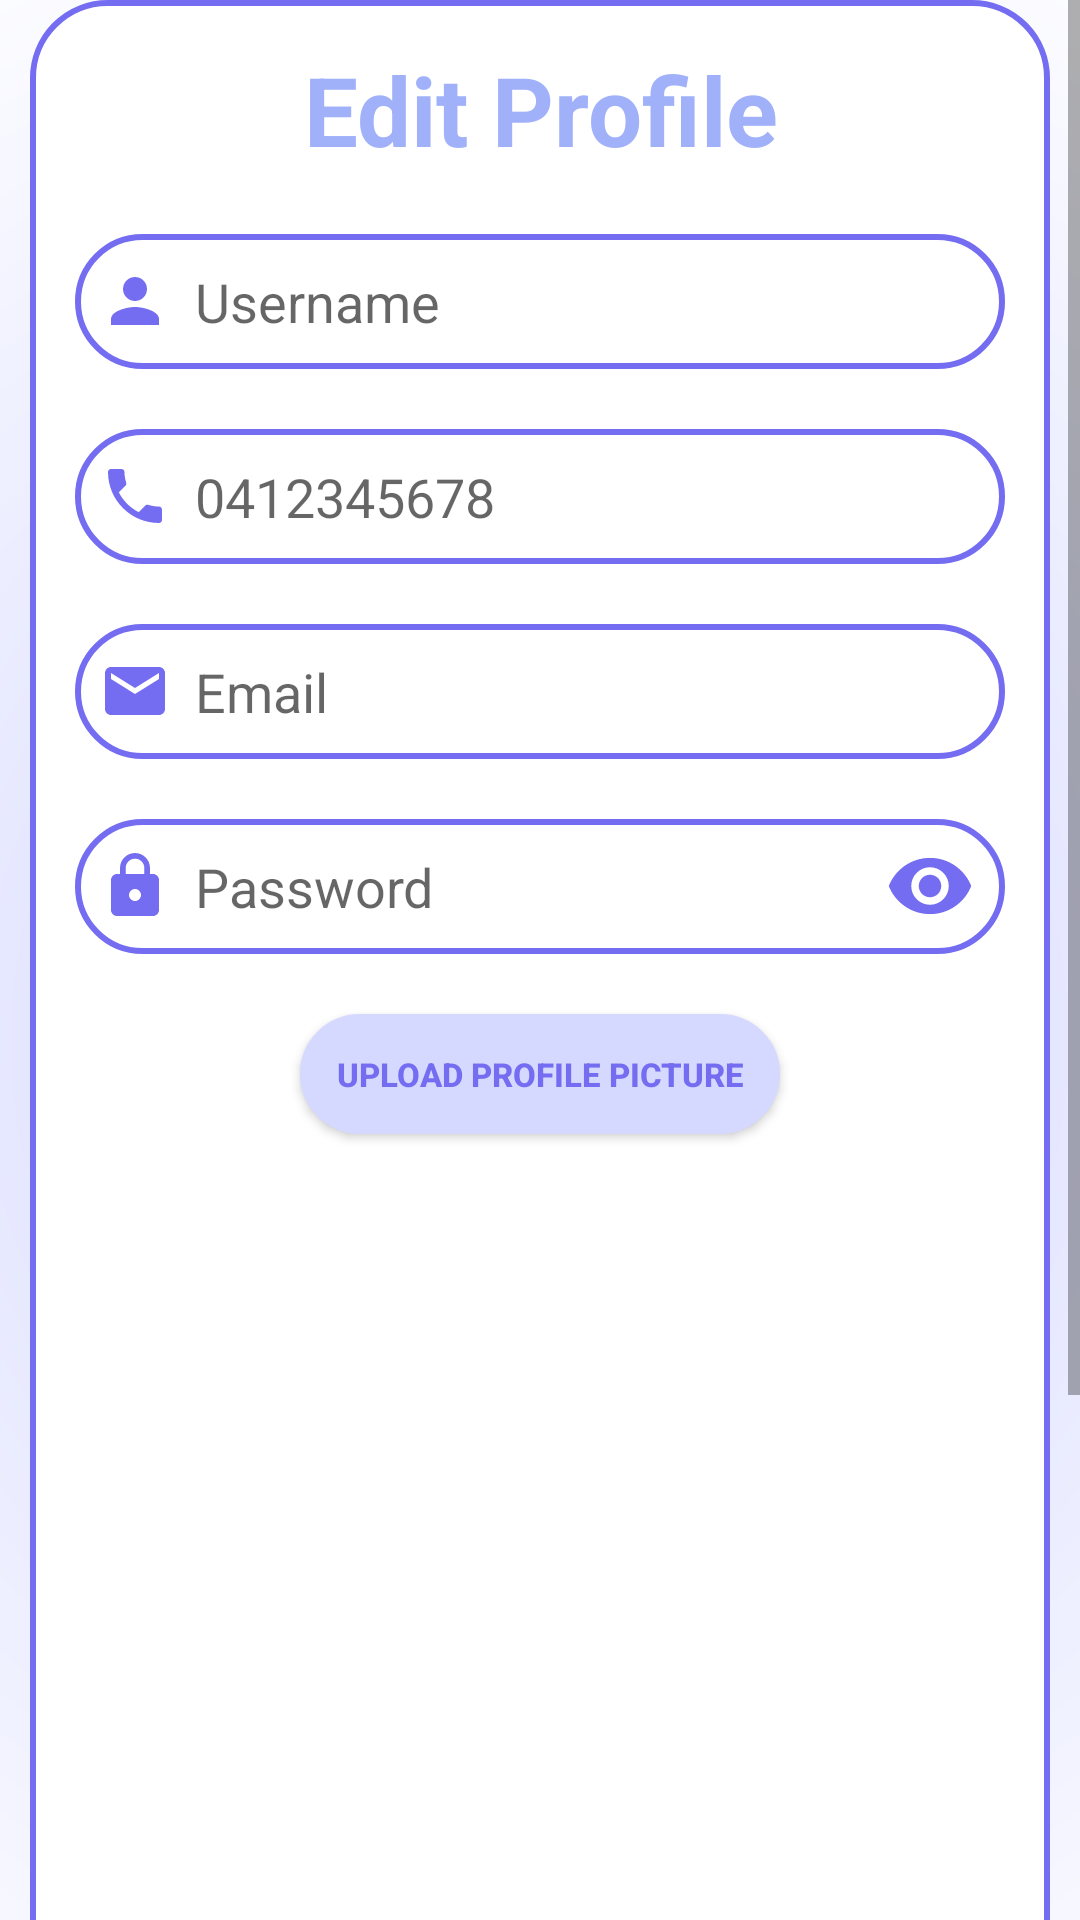

Named icons in this screenshot (1080*1920) and their bounding boxes, (x1, y1, x2, y2):
open eye: (889, 858, 971, 914)
